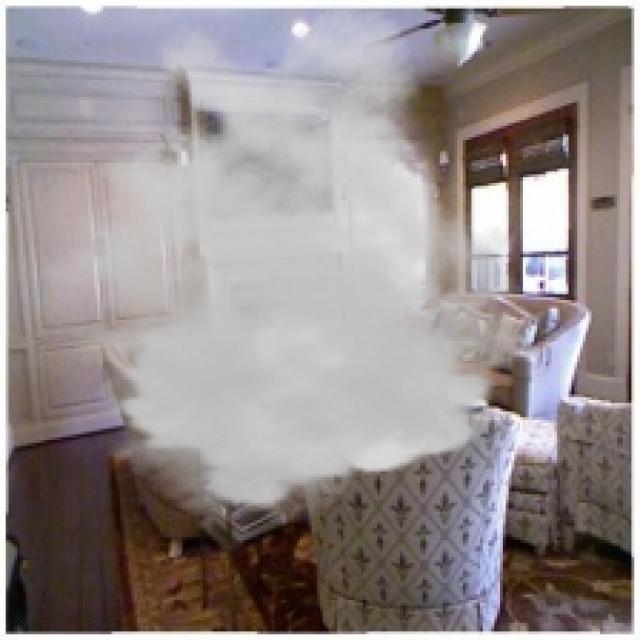Smoke: (14, 3, 546, 526)
